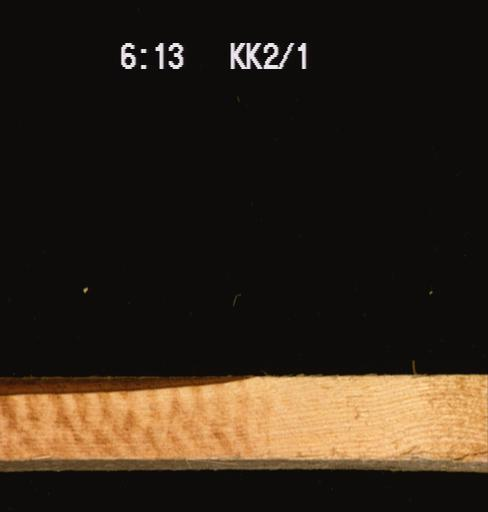wave: (0, 456, 487, 473), (0, 375, 260, 396)
